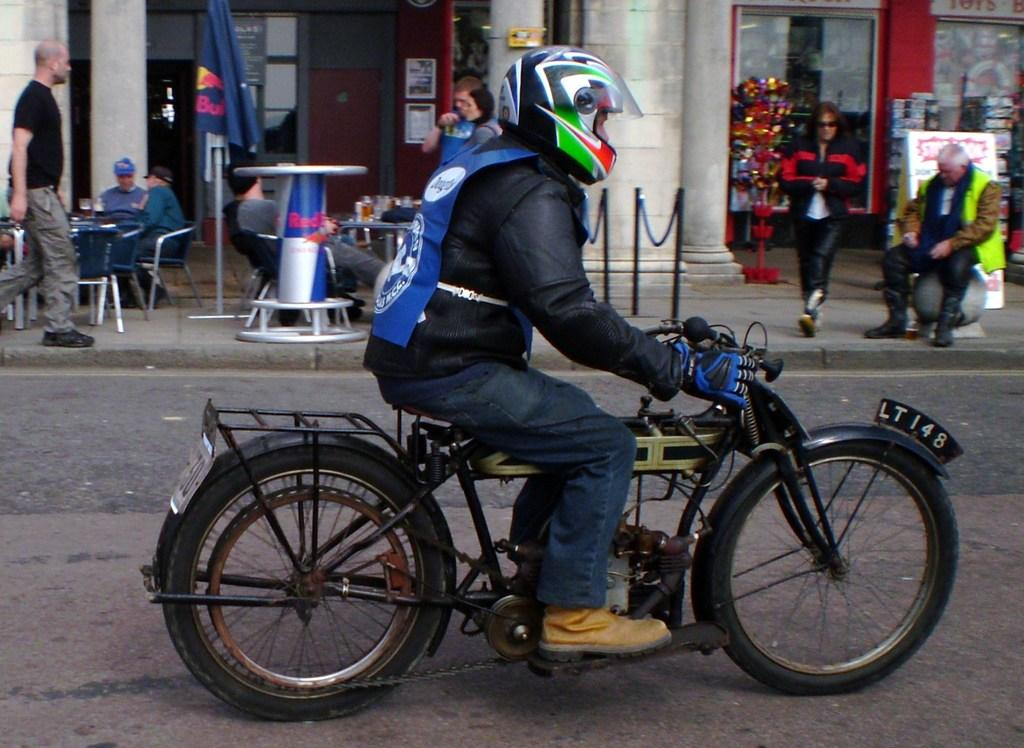helmet: (497, 44, 644, 186)
nohelmet: (32, 38, 73, 87), (810, 99, 844, 144), (936, 143, 970, 188), (453, 75, 484, 117), (462, 87, 495, 124), (112, 156, 138, 192), (142, 165, 174, 193)
